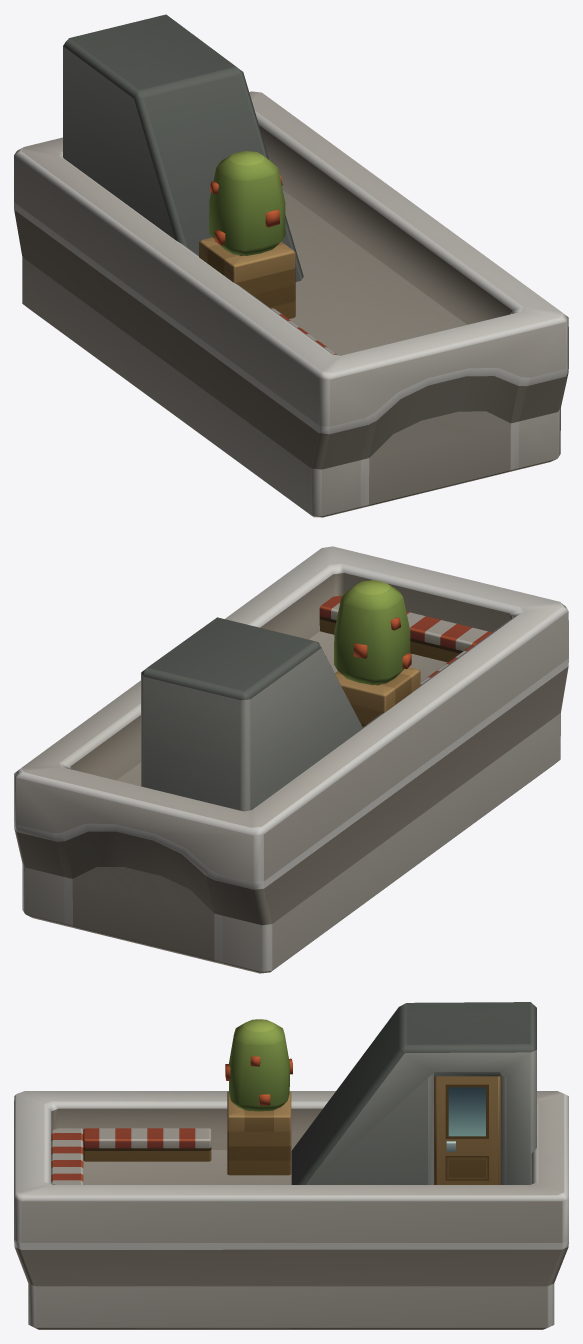
Rendered from appartment_type1_roof_type1_x2_deco.fbx.
The picture shows the model from 3 angles, top to bottom: view 1: azimuth 30°, elevation 25°; view 2: azimuth 150°, elevation 25°; view 3: azimuth 270°, elevation 25°; orthographic projection. The views are drawn at different scales.
Visible parts, largest first — view 1: appartment_type1_roof_type1_x2_deco; view 2: appartment_type1_roof_type1_x2_deco; view 3: appartment_type1_roof_type1_x2_deco, door_wood_rooftop_doorway.
Boxes of the visible parts, x1,y1,x2,y2 form: appartment_type1_roof_type1_x2_deco: [14, 14, 568, 517]; appartment_type1_roof_type1_x2_deco: [14, 546, 568, 973]; appartment_type1_roof_type1_x2_deco: [14, 1002, 568, 1329]; door_wood_rooftop_doorway: [434, 1076, 500, 1184].
Bounding box in the file's own units: 400 × 410 × 867.
